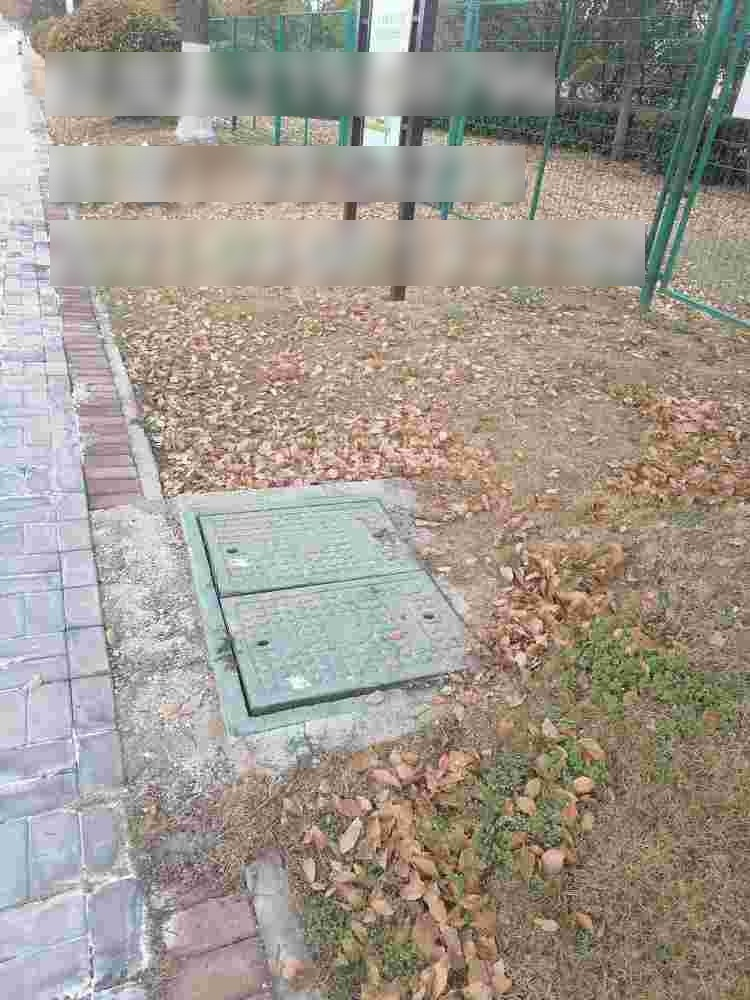well: (183, 495, 476, 732)
